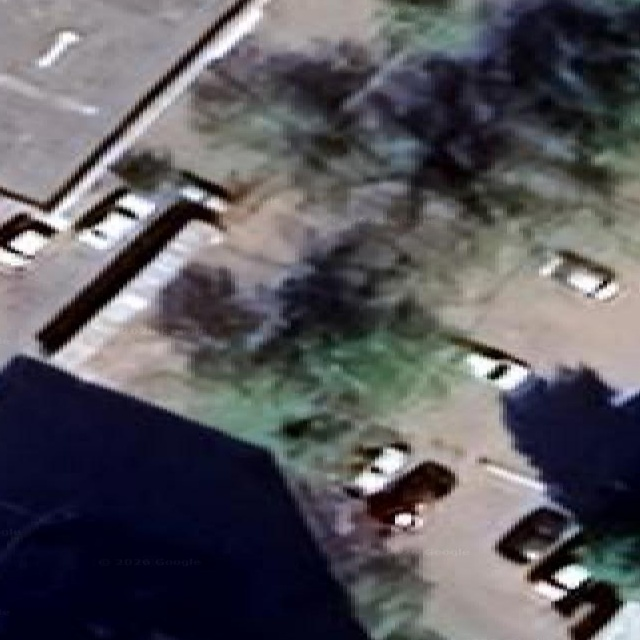car: (527, 533, 620, 639), (367, 460, 455, 529), (527, 535, 592, 607), (449, 336, 531, 390), (496, 507, 575, 563), (77, 192, 155, 248), (555, 580, 622, 639), (539, 252, 619, 300), (347, 443, 407, 495), (0, 213, 54, 268), (79, 208, 136, 248), (178, 172, 227, 211), (35, 28, 80, 68), (596, 600, 639, 639), (101, 291, 148, 323), (116, 192, 155, 219)
